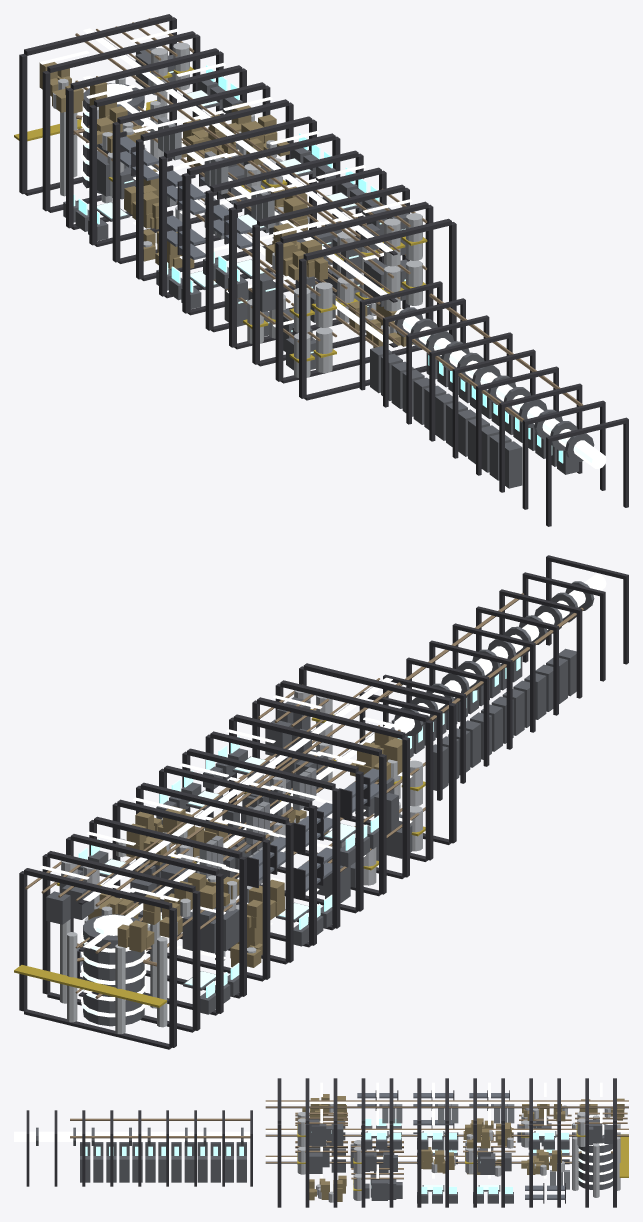
The model's file is ion_frigate_interior.glb.
3 views of the same model, one above another, from view 1: azimuth 30°, elevation 25°; view 2: azimuth 150°, elevation 25°; view 3: azimuth 270°, elevation 25° (orthographic). The views are drawn at different scales.
Parts seen in each view (by area): view 1: interior; view 2: interior; view 3: interior.
Boxes of the visible parts, bbox=[...] form: interior: bbox=[14, 14, 628, 526]; interior: bbox=[14, 555, 628, 1049]; interior: bbox=[14, 1078, 628, 1207].
Size of the model in its own units: 11.5 by 10.25 by 66.
